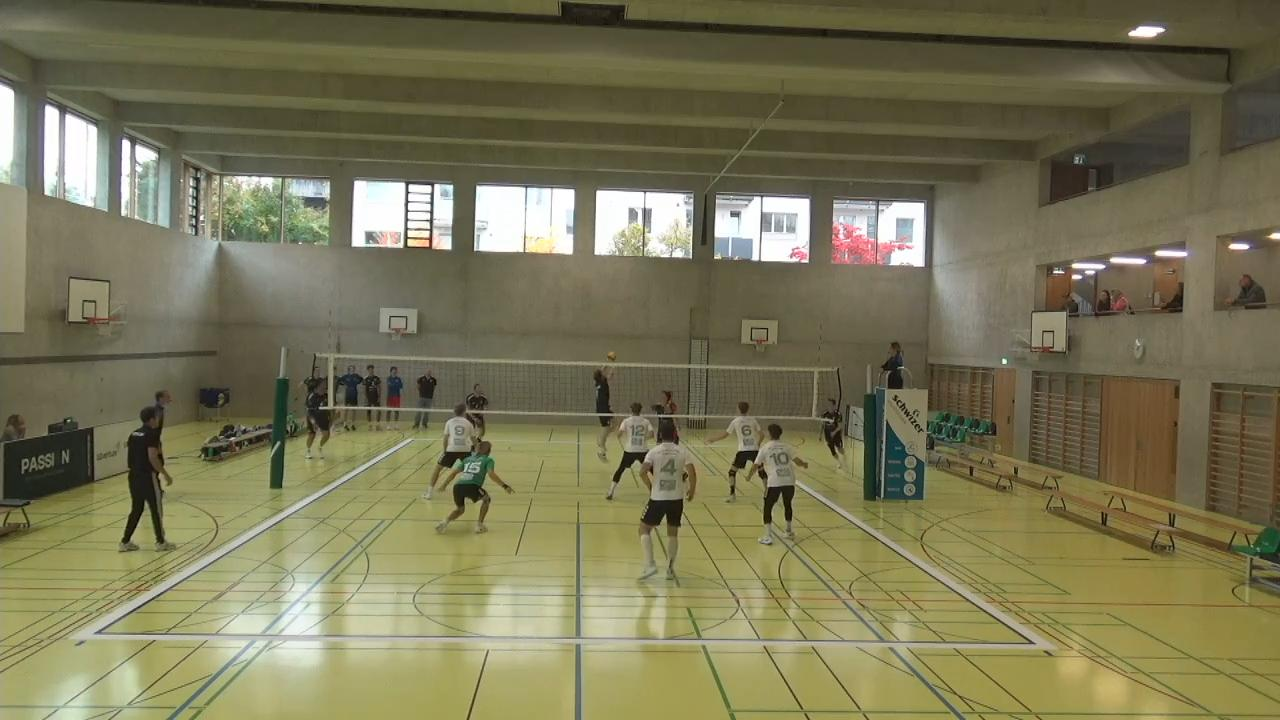Player: (639, 423, 697, 580), (436, 433, 515, 534), (756, 423, 809, 547), (714, 401, 763, 503), (428, 401, 473, 500), (607, 407, 652, 500), (820, 396, 849, 469), (656, 389, 681, 443), (467, 385, 488, 436)
Set: (590, 354, 616, 460)
ball: (603, 349, 616, 363)
